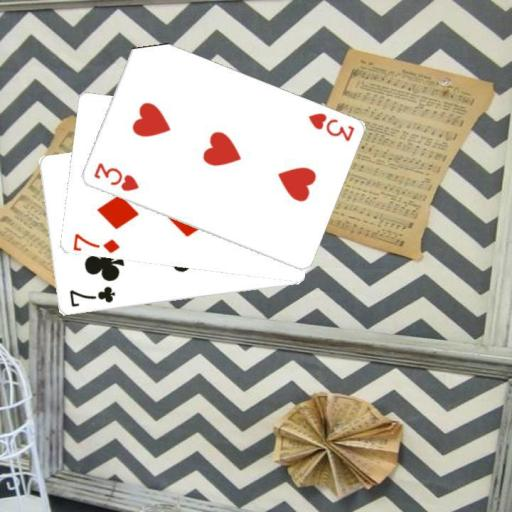3H: (305, 110, 356, 144), (90, 160, 140, 194)
7C: (66, 284, 117, 309)
7D: (70, 231, 121, 255)
